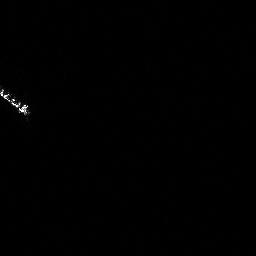ship: (1, 82, 33, 123)
